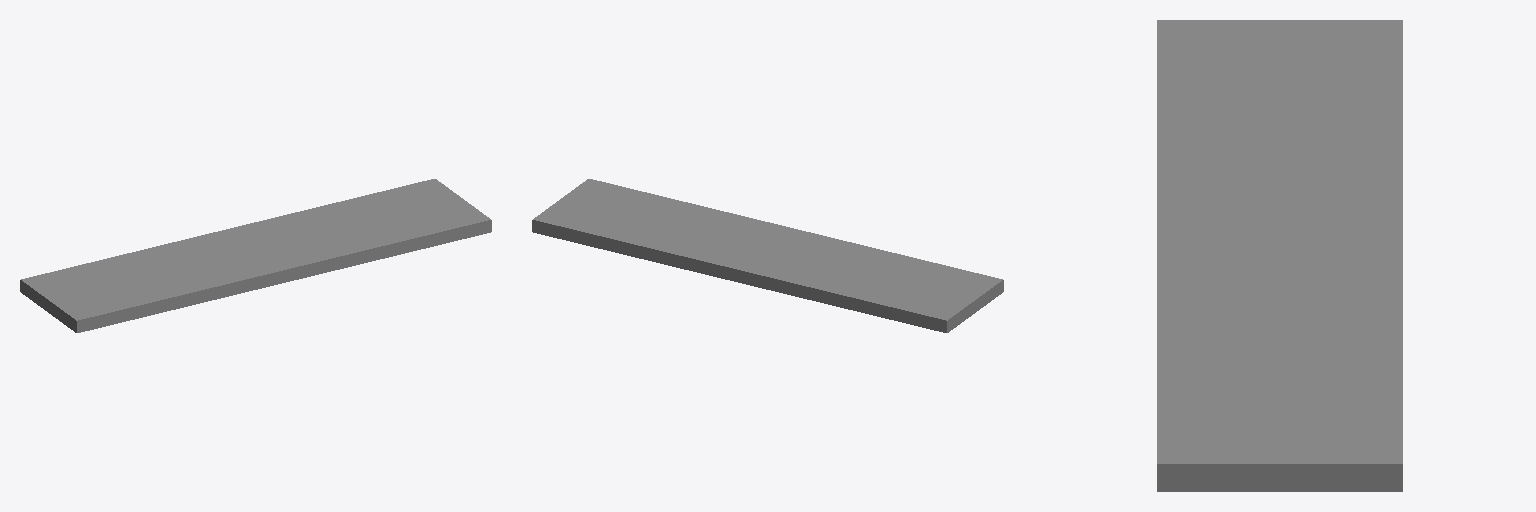
robot.urdf — table:
<?xml version="1.0"?>
<robot name="table">
  <link name="base_link">
    <visual>
      <geometry>
        <box size="1.7 .4 .05"/>
      </geometry>
      <material name="gray">
        <color rgba=".6 .6 .6 1"/>
      </material>
    </visual>
  </link>
</robot>

--- Facts derived from the render (not from the file) ---
The picture shows the robot from 3 angles, left to right: view 1: azimuth 30°, elevation 25°; view 2: azimuth 150°, elevation 25°; view 3: azimuth 270°, elevation 25°; orthographic projection.
Robot: table — 1 links, 0 joints (none); root link base_link; default pose: all joints at 0.
Links seen in each view (by area): view 1: base_link; view 2: base_link; view 3: base_link.
Link boxes in pixels (bbox=[...]): base_link: bbox=[20, 179, 491, 332]; base_link: bbox=[532, 179, 1003, 332]; base_link: bbox=[1157, 20, 1402, 491].
Bounding box of the posed robot: 1.7 × 0.4 × 0.05 m (x, y, z).
Geometry: primitives only (box / cylinder / sphere), no mesh files.